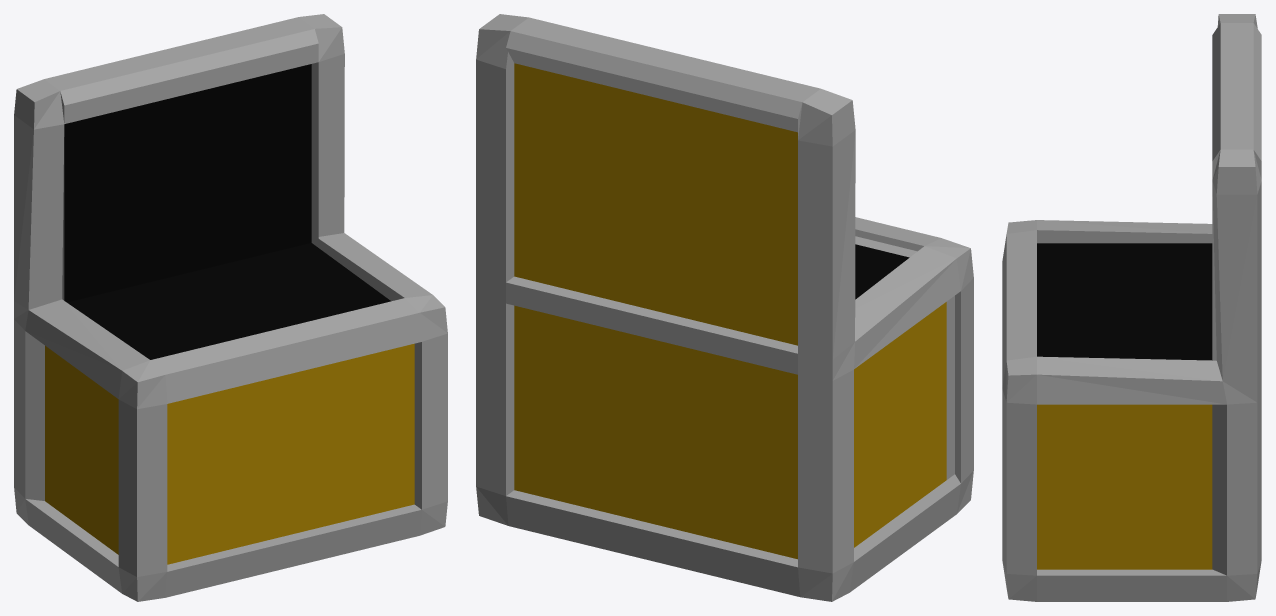
Rendered from Chest_Normal_Open.fbx.
3 views of the same model, side by side, from view 1: azimuth 30°, elevation 25°; view 2: azimuth 150°, elevation 25°; view 3: azimuth 270°, elevation 25° (orthographic). The views are drawn at different scales.
Parts seen in each view (by area): view 1: pCube18; view 2: pCube18; view 3: pCube18.
Boxes of the visible parts, x1,y1,x2,y2 form: pCube18: (14, 14, 447, 601); pCube18: (476, 14, 973, 601); pCube18: (1002, 14, 1261, 601).
Size of the model in its own units: 16.28 by 21.21 by 11.28.
